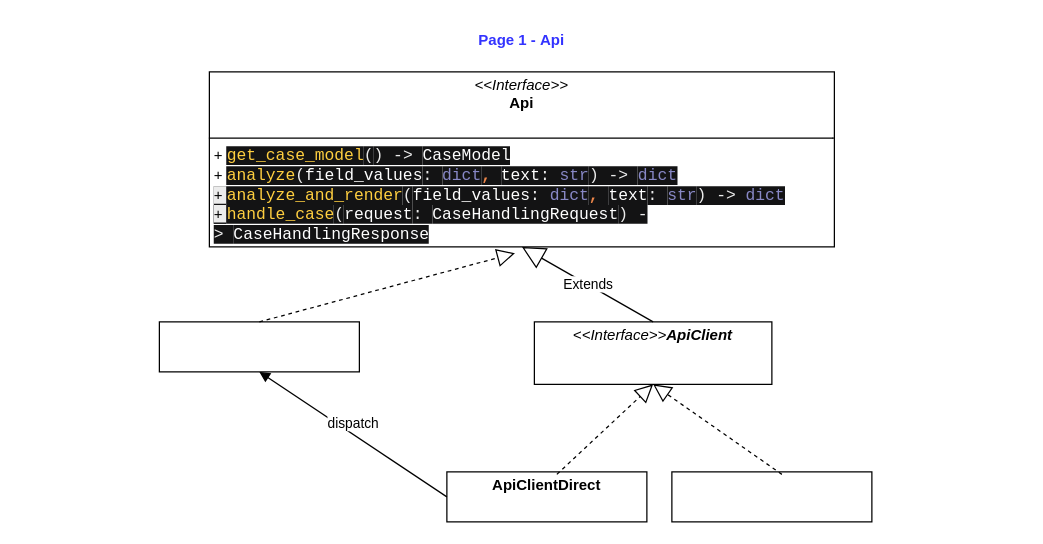
Some shapes in this 1043 by 544 pixel diagram are drawn without their labels. Each missing label, with the centre of its shape:
"ApiClientHttp" goes at (771,496).
"ApiImplementation" goes at (258,346).
